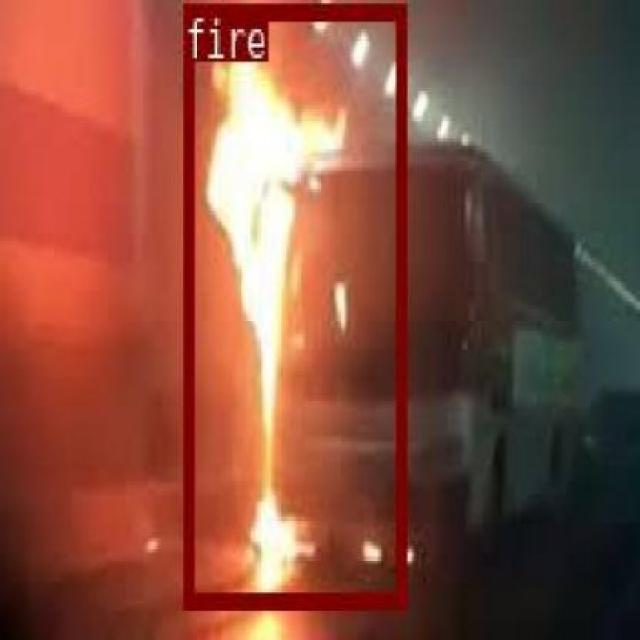Fire: (182, 1, 404, 606)
